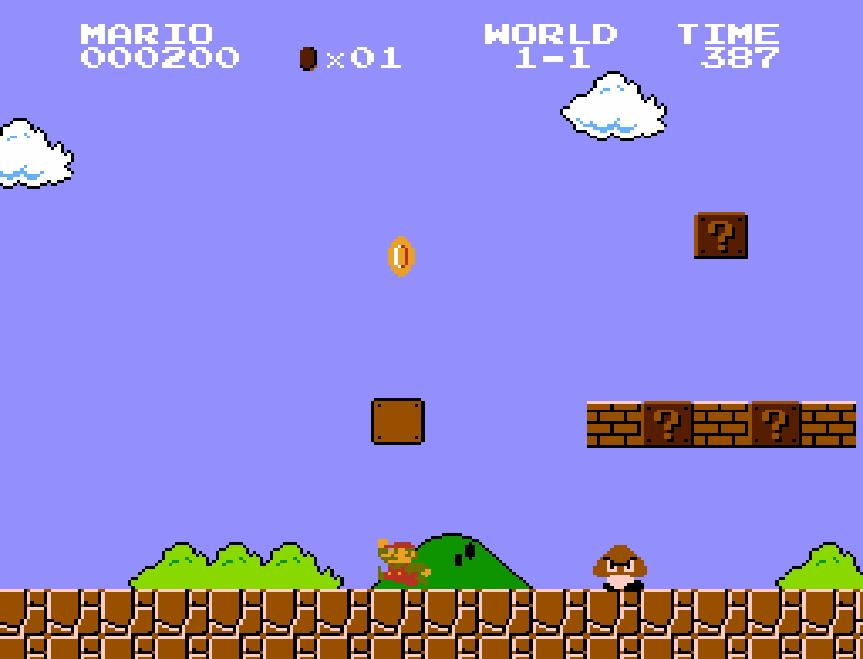little_mario: (376, 538, 434, 588)
